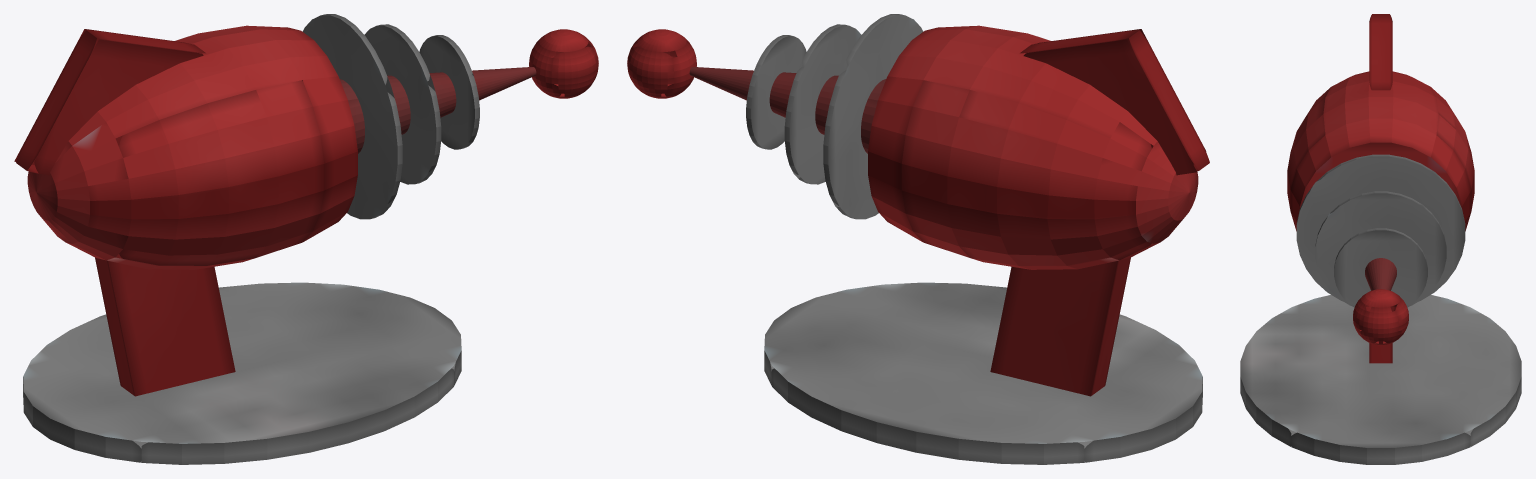
Rendered from rayGun.fbx.
3 renders of one model, left to right at view 1: azimuth 30°, elevation 25°; view 2: azimuth 150°, elevation 25°; view 3: azimuth 270°, elevation 25°, orthographic. The views are drawn at different scales.
Visible parts, largest first — view 1: sphere_1, cylinder_3, cuboid, cuboid_1, cylinder_2, cylinder_1, sphere, cylinder, cone; view 2: sphere_1, cylinder_3, cuboid, cuboid_1, cylinder_2, cylinder_1, sphere, cylinder, cone; view 3: cylinder_3, sphere_1, cylinder_2, cylinder_1, cylinder, sphere, cuboid_1, cone, cuboid.
Part boxes in pixels (<box>): sphere_1: <box>27,25,357,269</box>; cylinder_3: <box>23,282,461,464</box>; cuboid: <box>95,254,235,396</box>; cuboid_1: <box>14,29,205,175</box>; cylinder_2: <box>302,14,402,219</box>; cylinder_1: <box>364,24,441,184</box>; sphere: <box>529,29,598,98</box>; cylinder: <box>419,35,479,149</box>; cone: <box>339,67,536,153</box>; sphere_1: <box>868,25,1198,269</box>; cylinder_3: <box>764,282,1202,464</box>; cuboid: <box>990,257,1130,396</box>; cuboid_1: <box>1020,29,1209,175</box>; cylinder_2: <box>823,14,923,219</box>; cylinder_1: <box>784,24,861,184</box>; sphere: <box>627,29,696,98</box>; cylinder: <box>746,35,806,149</box>; cone: <box>689,67,886,153</box>; cylinder_3: <box>1240,295,1521,464</box>; sphere_1: <box>1287,71,1474,231</box>; cylinder_2: <box>1296,154,1465,301</box>; cylinder_1: <box>1315,191,1446,305</box>; cylinder: <box>1334,228,1427,307</box>; sphere: <box>1353,289,1408,345</box>; cuboid_1: <box>1369,14,1392,90</box>; cone: <box>1365,258,1396,290</box>; cuboid: <box>1369,343,1392,363</box>.
Bounding box in the file's own units: 35.63 × 23 × 18.75.
Materials: 1 (1 with a texture image).
